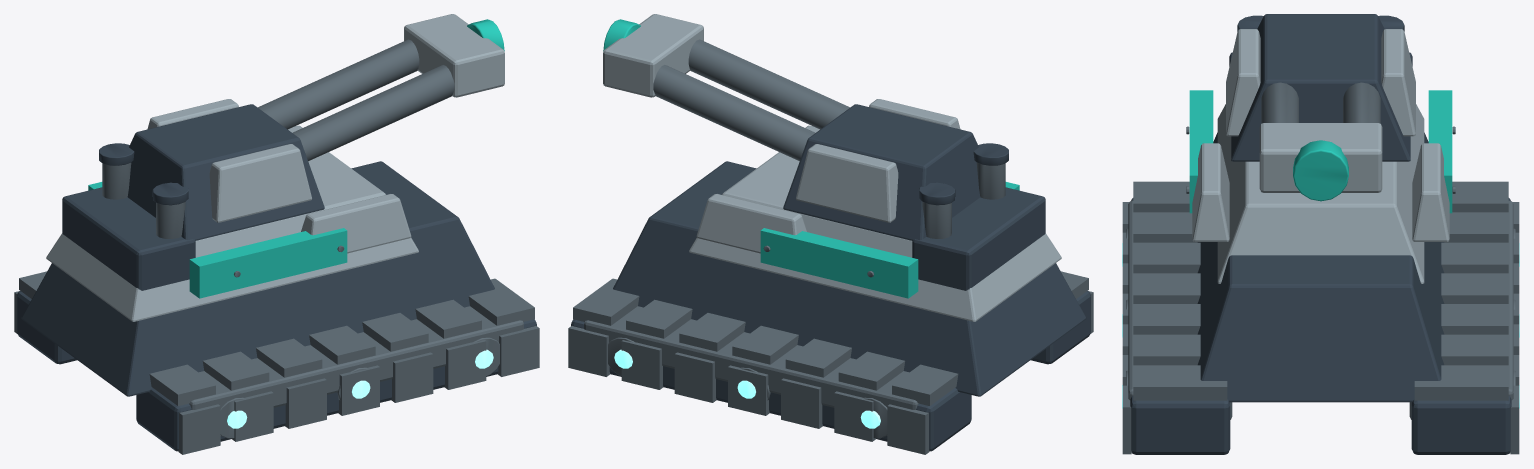
The model's file is SM_Cinderthrow.fbx.
The picture shows the model from 3 angles, left to right: view 1: azimuth 30°, elevation 25°; view 2: azimuth 150°, elevation 25°; view 3: azimuth 270°, elevation 25°; orthographic projection. The views are drawn at different scales.
Parts seen in each view (by area): view 1: SM_Cinderthrow; view 2: SM_Cinderthrow; view 3: SM_Cinderthrow.
Boxes of the visible parts, x1=… form: SM_Cinderthrow: x1=14, y1=14, x2=539, y2=454; SM_Cinderthrow: x1=568, y1=14, x2=1093, y2=454; SM_Cinderthrow: x1=1122, y1=14, x2=1519, y2=454.
Size of the model in its own units: 60 by 41.85 by 38.
